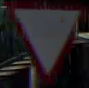Give way: (5, 1, 88, 80)
